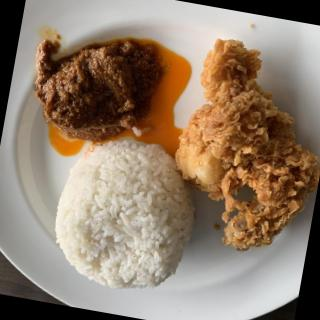Nasi: (45, 130, 201, 300)
